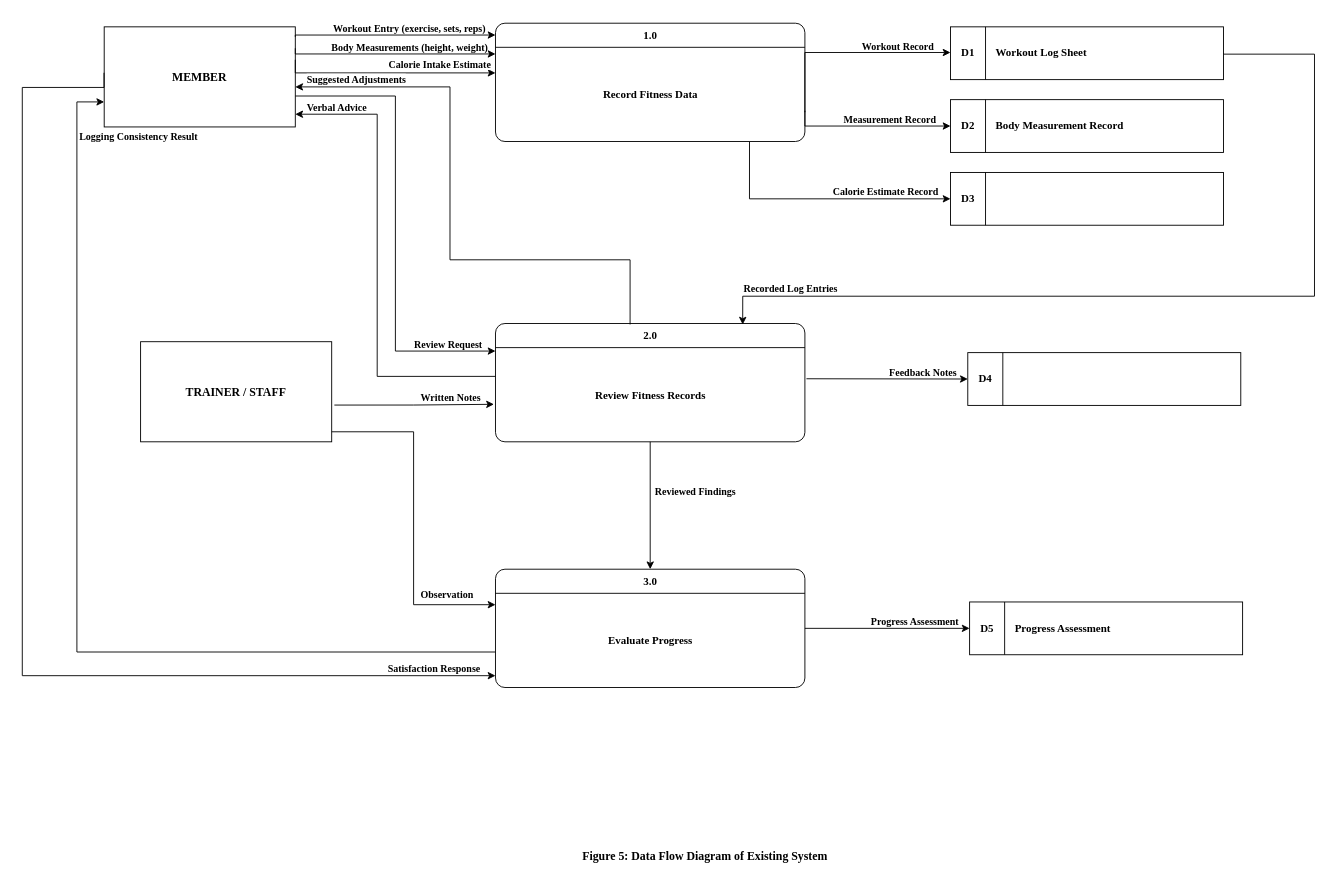
The diagram is 1338 pixels wide and 885 high, and some of its shapes have lost their labels. The shapes that lost their labels are listed below. From the top down, each one's box as (x1, y1, x2, y2) in pixels, then its label:
(950, 172, 1223, 225): Calorie Estimate Sheet
(967, 352, 1241, 405): Trainer Feedback Notes
